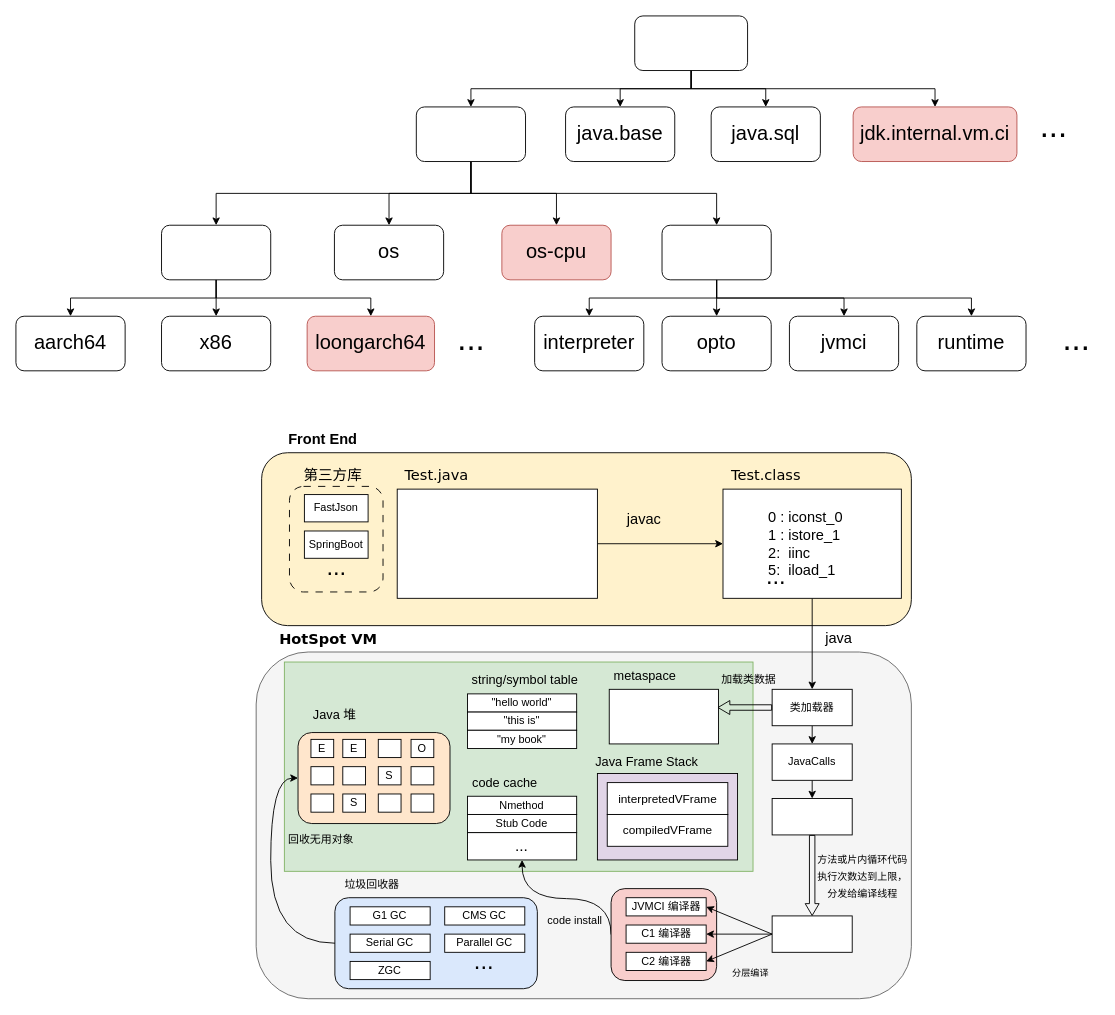
Image size: 1115x1015. Some labels were removed from this diagram. Here are the shapes that lost their labels. From the top down, the centre of each, then its label:
the point at 691,43: src
the point at 470,134: hotspot
the point at 216,252: cpu
the point at 716,252: share
the point at 496,543: int i = 0 ; do { i++; } while (i< foo());
the point at 663,716: class [ ... ] class [ ... ] ...
the point at 811,816: 解释器
the point at 811,933: 编译线程
